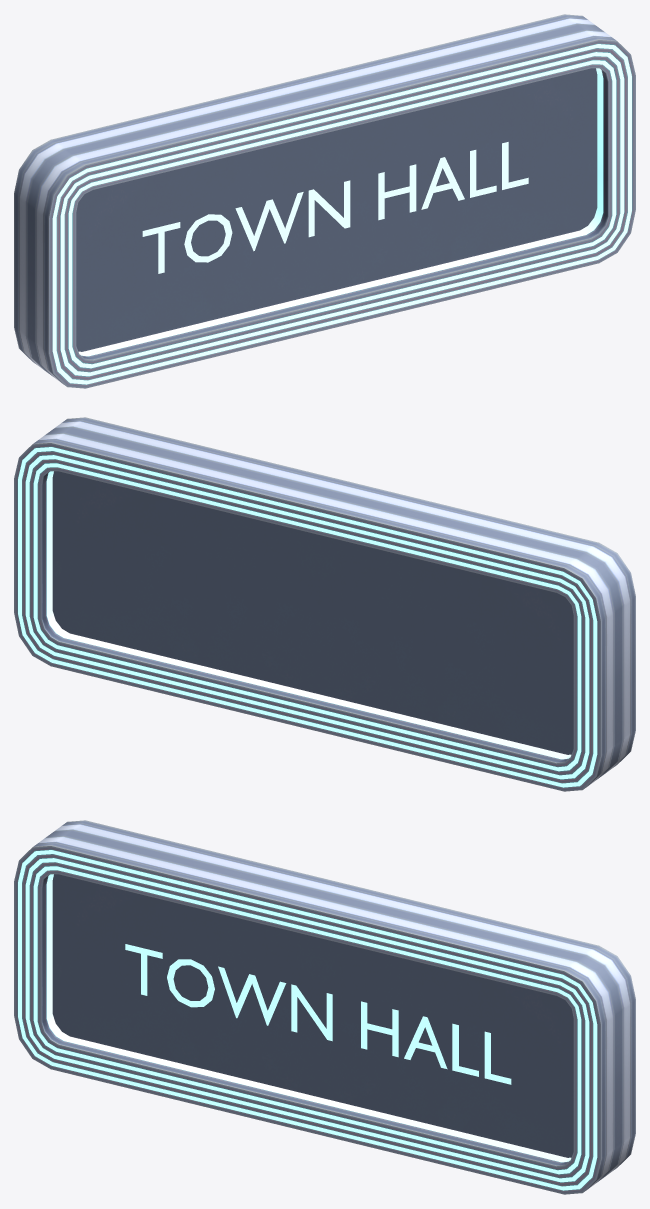
The model's file is obj_sign05.gltf.
The picture shows the model from 3 angles, top to bottom: view 1: azimuth 30°, elevation 25°; view 2: azimuth 150°, elevation 25°; view 3: azimuth 330°, elevation 25°; orthographic projection.
Visible parts, largest first — view 1: obj_sign05; view 2: obj_sign05; view 3: obj_sign05.
Part boxes in pixels (box(x1,y1,x2,y2)): obj_sign05: box(14, 14, 635, 388); obj_sign05: box(14, 417, 635, 791); obj_sign05: box(14, 820, 635, 1194).
Size of what is drawn, in the model's own units: 4.27 by 1.55 by 0.439.
2 materials, 1 textured.
